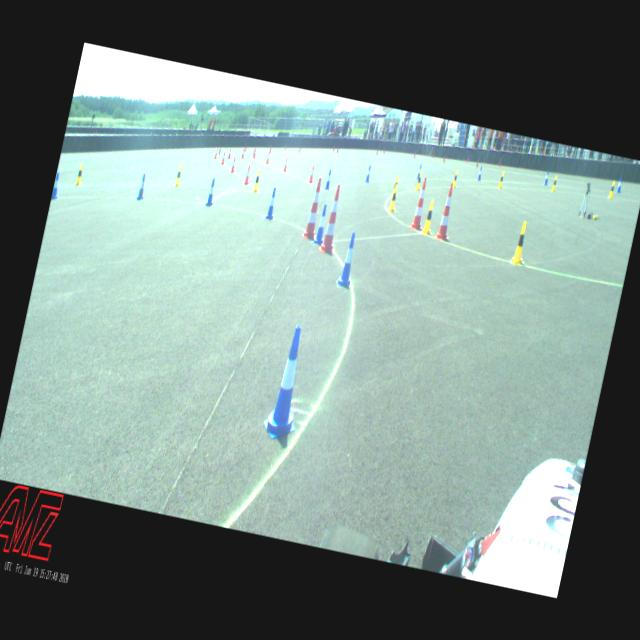blue_cone: (260, 322, 316, 442), (334, 230, 362, 289), (313, 203, 330, 245), (264, 188, 278, 220), (204, 178, 217, 206), (136, 172, 148, 200), (51, 171, 62, 199), (324, 168, 333, 190), (364, 165, 372, 182), (616, 176, 623, 193), (543, 169, 550, 185), (416, 163, 422, 179), (477, 166, 482, 180)
large_orange_cone: (318, 182, 348, 255), (300, 177, 328, 240), (433, 182, 459, 242), (408, 177, 432, 230)
orange_cone: (242, 164, 252, 184), (308, 164, 316, 183), (230, 156, 237, 172), (282, 156, 289, 172), (220, 151, 226, 164), (264, 151, 270, 164), (240, 148, 246, 158), (227, 148, 232, 158), (214, 147, 218, 158), (252, 148, 256, 158)
unknown_cone: (244, 142, 248, 152), (218, 145, 220, 155)
yellow_cone: (510, 220, 531, 265), (420, 199, 438, 236), (388, 183, 400, 213), (74, 163, 85, 187), (252, 169, 262, 193), (390, 175, 400, 199), (174, 165, 184, 187), (607, 180, 616, 199), (414, 171, 422, 191), (451, 170, 459, 188), (550, 175, 558, 191), (497, 170, 504, 188)
